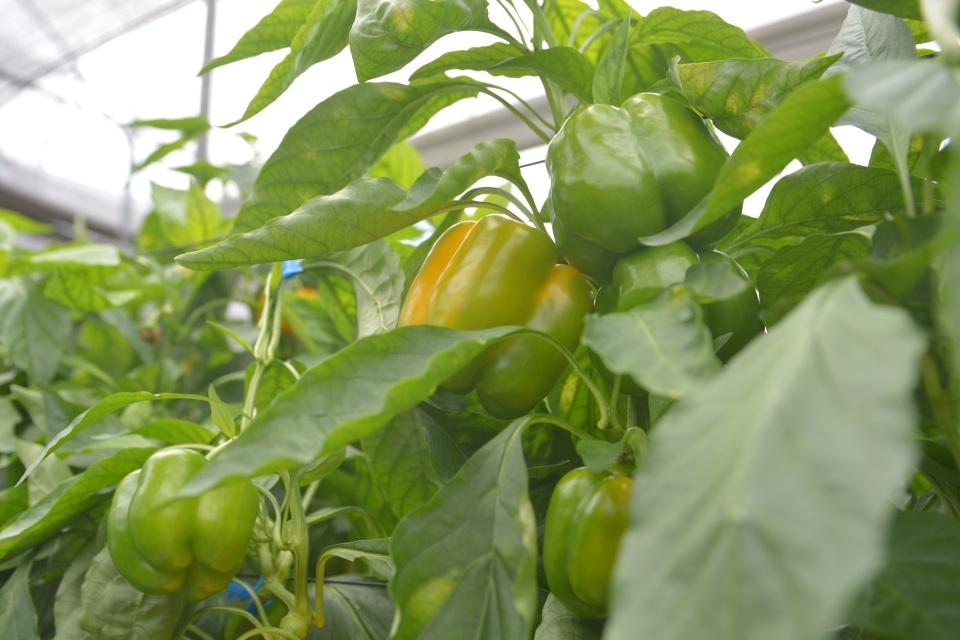fruit: (392, 210, 596, 426), (543, 90, 746, 289), (584, 238, 769, 411), (103, 443, 262, 602), (540, 460, 644, 624)
